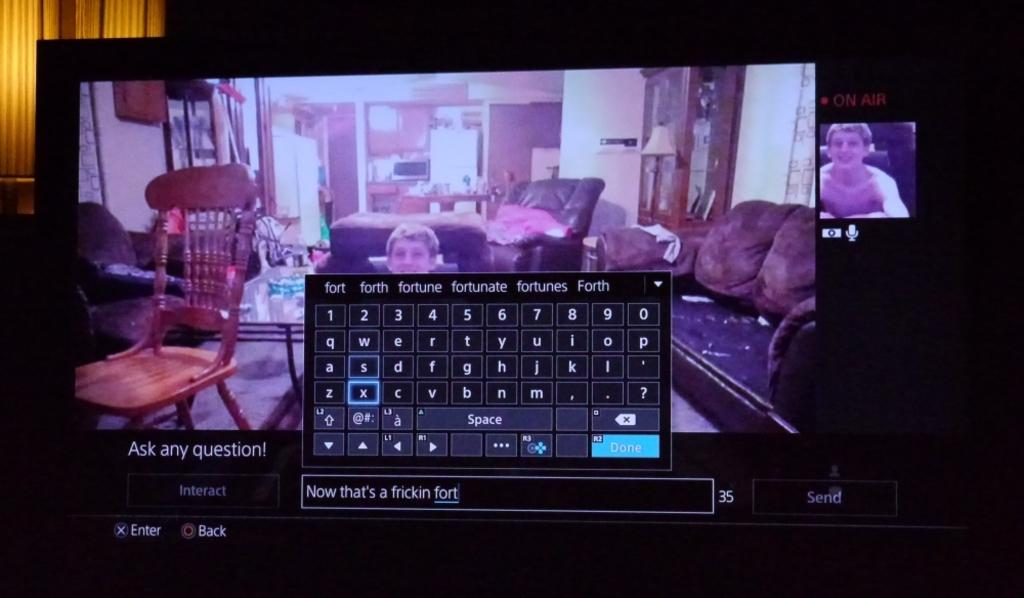Computer-keyboard: (311, 304, 666, 464)
Laptop: (10, 50, 995, 575)
